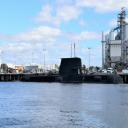submarine: (15, 58, 127, 84)
